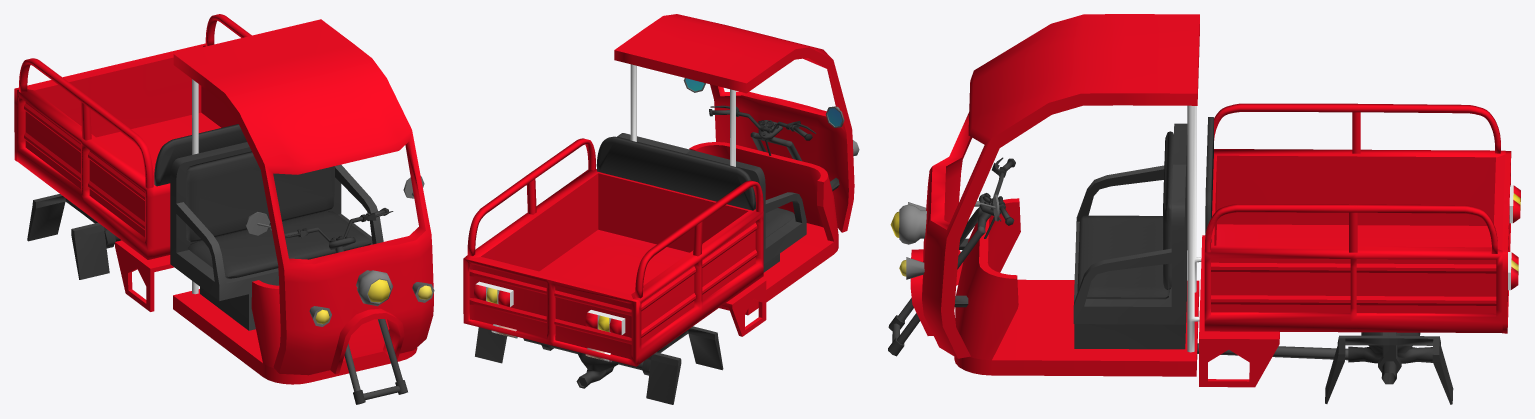
Rendered from TukTuk_1.fbx.
The picture shows the model from 3 angles, left to right: view 1: azimuth 30°, elevation 25°; view 2: azimuth 150°, elevation 25°; view 3: azimuth 270°, elevation 25°; orthographic projection. The views are drawn at different scales.
Visible parts, largest first — view 1: TukTuk_1; view 2: TukTuk_1; view 3: TukTuk_1.
Part boxes in pixels (bbox=[...]): TukTuk_1: bbox=[14, 14, 434, 404]; TukTuk_1: bbox=[463, 14, 859, 404]; TukTuk_1: bbox=[888, 14, 1520, 404].
Bounding box in the file's own units: 183 × 220 × 413.
Materials: 1 (1 with a texture image).
